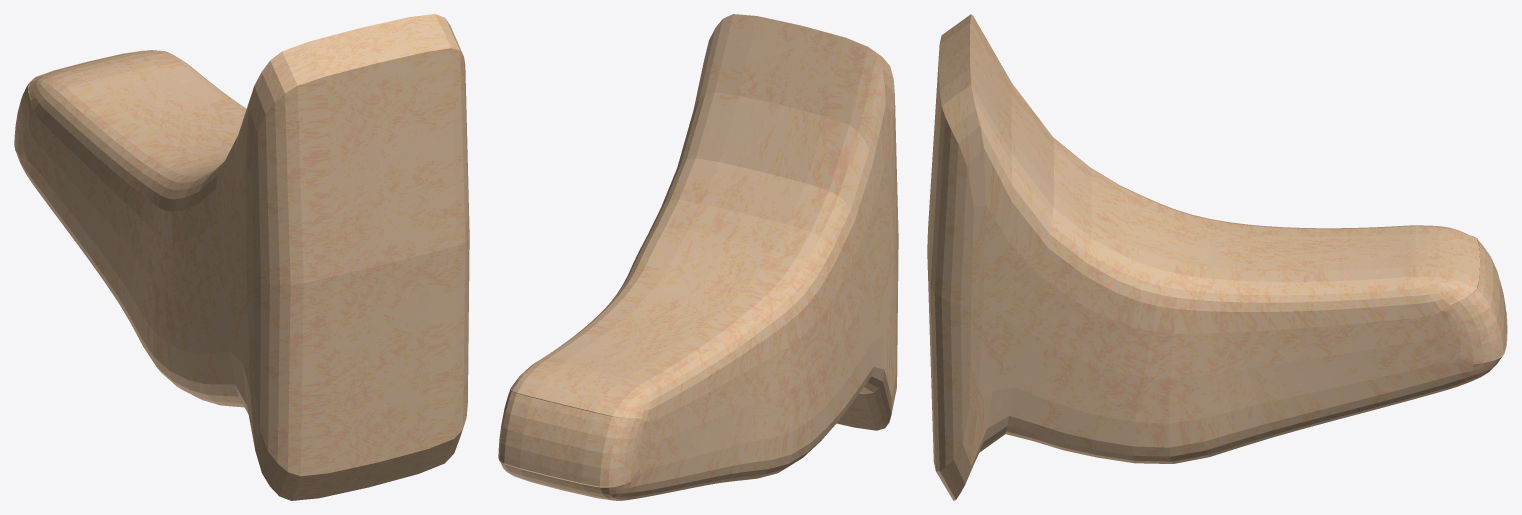
File: soporte_Toalla.fbx
The picture shows the model from 3 angles, left to right: view 1: azimuth 30°, elevation 25°; view 2: azimuth 150°, elevation 25°; view 3: azimuth 270°, elevation 25°; orthographic projection. The views are drawn at different scales.
Parts seen in each view (by area): view 1: sostenedorToallla; view 2: sostenedorToallla; view 3: sostenedorToallla.
Boxes of the visible parts, x1=… form: sostenedorToallla: x1=14, y1=14, x2=469, y2=500; sostenedorToallla: x1=498, y1=14, x2=898, y2=500; sostenedorToallla: x1=927, y1=14, x2=1507, y2=500.
Size of the model in its own units: 3.7 by 7.57 by 9.36.
